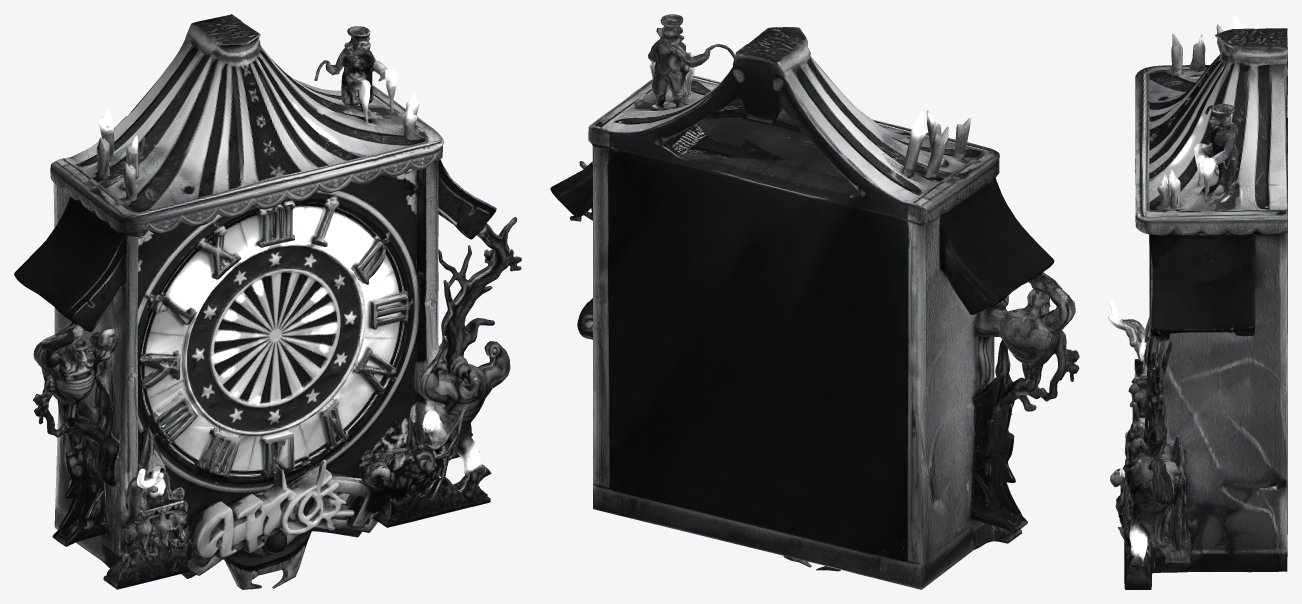
The model's file is Meshy_AI_Midnight_Circus_Clock_0518085912_texture.fbx.
3 renders of one model, left to right at view 1: azimuth 30°, elevation 25°; view 2: azimuth 150°, elevation 25°; view 3: azimuth 270°, elevation 25°, orthographic. The views are drawn at different scales.
Parts seen in each view (by area): view 1: Mesh_0; view 2: Mesh_0; view 3: Mesh_0.
Part boxes in pixels (x1=…): Mesh_0: x1=14, y1=14, x2=521, y2=589; Mesh_0: x1=550, y1=14, x2=1079, y2=589; Mesh_0: x1=1108, y1=14, x2=1287, y2=589.
Size of the model in its own units: 183 by 191 by 60.
1 material, 1 textured.
